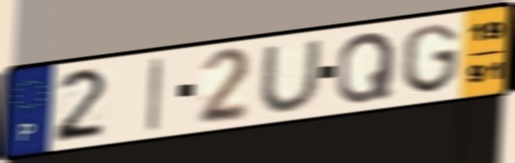2: (198, 46, 254, 129), (54, 66, 110, 146)
G: (400, 20, 461, 96)
I: (144, 54, 166, 136)
Q: (333, 29, 398, 107)
U: (256, 36, 325, 114)
